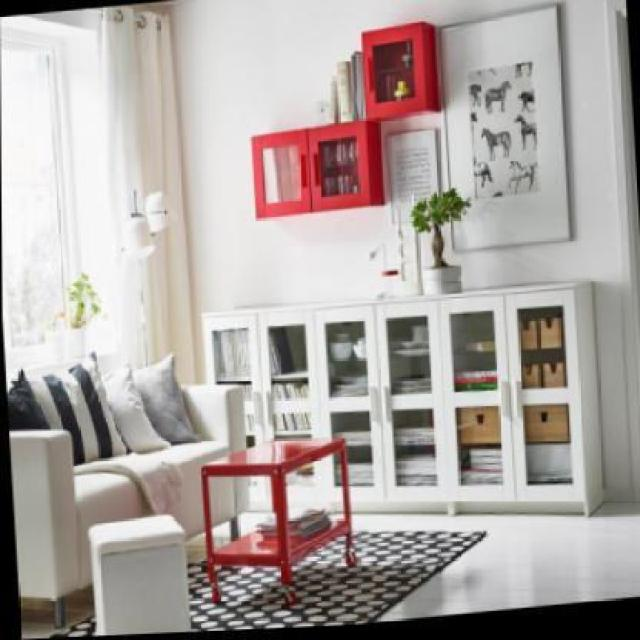tables: (198, 435, 357, 608)
